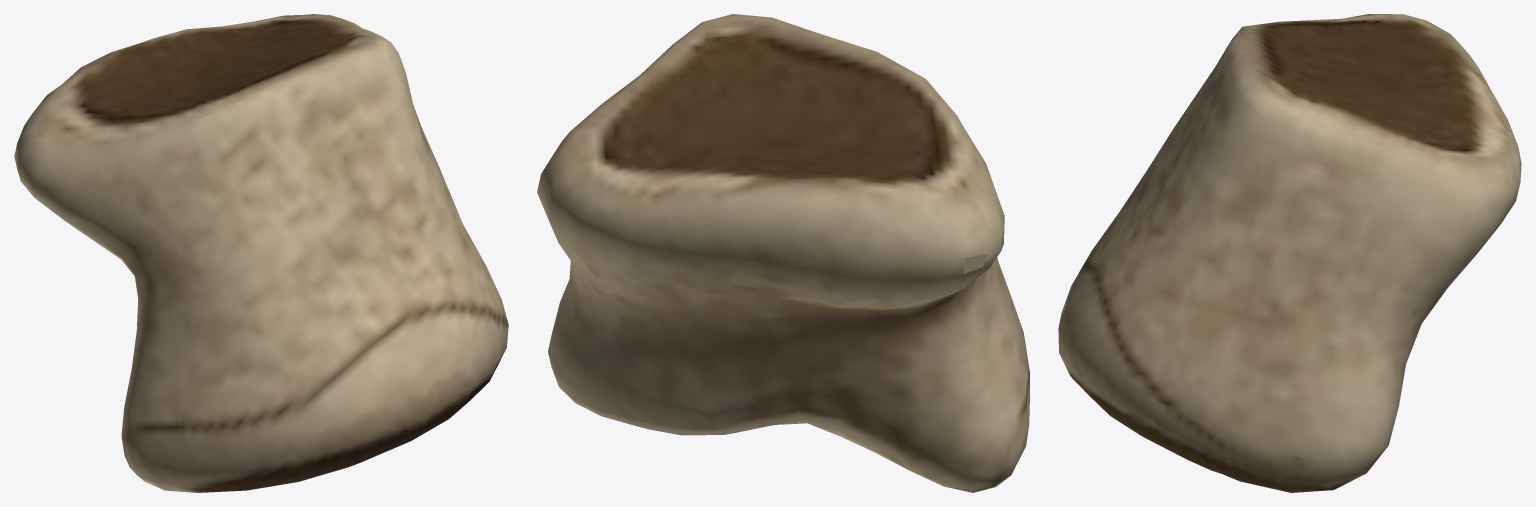
Rendered from Short_Pastern.glb.
3 views of the same model, side by side, from view 1: azimuth 30°, elevation 25°; view 2: azimuth 150°, elevation 25°; view 3: azimuth 270°, elevation 25° (orthographic). The views are drawn at different scales.
Parts seen in each view (by area): view 1: L_Bck_Short_Pastern; view 2: L_Bck_Short_Pastern; view 3: L_Bck_Short_Pastern.
Part boxes in pixels (<box>): L_Bck_Short_Pastern: <box>14,14,508,492</box>; L_Bck_Short_Pastern: <box>537,14,1029,492</box>; L_Bck_Short_Pastern: <box>1058,14,1521,492</box>.
Bounding box in the file's own units: 0.053 × 0.0469 × 0.0502.
Materials: 1 (1 with a texture image).
